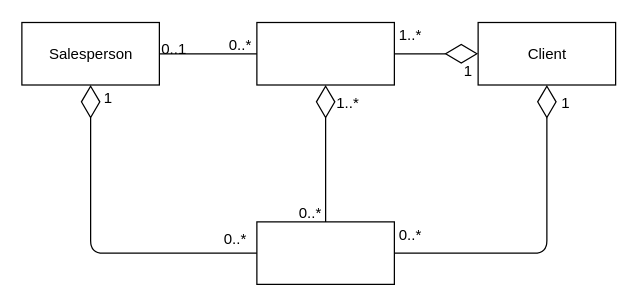
The diagram is 638 pixels wide and 308 high, and some of its shapes have lost their labels. Here are the shapes that lost their labels. From the top down, the centre of each, then its label:
[325,53]: Lead
[325,252]: Meeting
